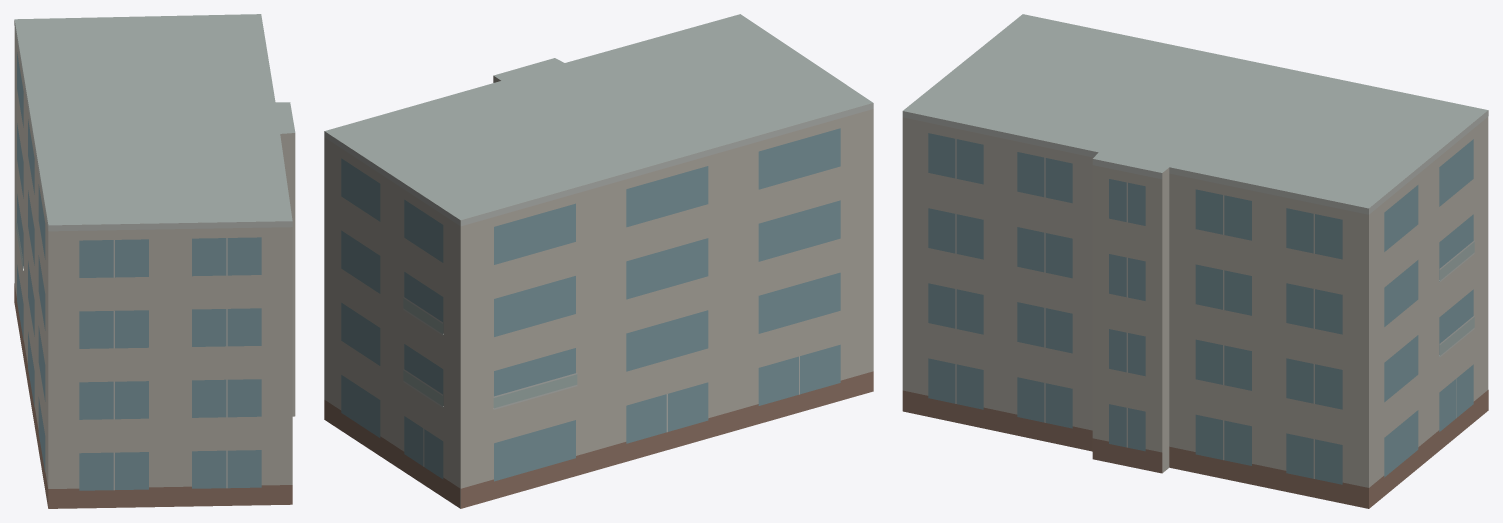
Rendered from survey-upis-32593465.glb.
The picture shows the model from 3 angles, left to right: view 1: azimuth 30°, elevation 25°; view 2: azimuth 150°, elevation 25°; view 3: azimuth 270°, elevation 25°; orthographic projection. The views are drawn at different scales.
Parts seen in each view (by area): view 1: survey-upis-32593465.tmp; view 2: survey-upis-32593465.tmp; view 3: survey-upis-32593465.tmp.
Boxes of the visible parts, bbox=[...] form: survey-upis-32593465.tmp: bbox=[14, 14, 295, 508]; survey-upis-32593465.tmp: bbox=[324, 14, 873, 508]; survey-upis-32593465.tmp: bbox=[902, 14, 1488, 508].
Bounding box in the file's own units: 16.12 × 11.6 × 20.51.
